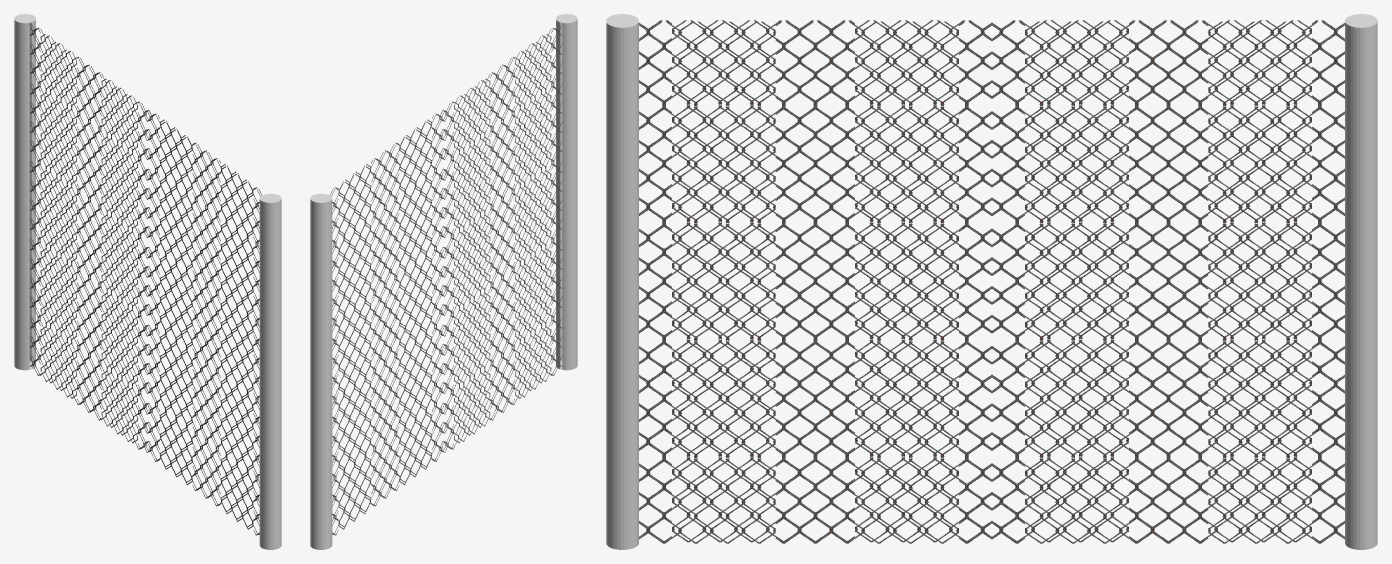
File: fence.fbx
3 renders of one model, left to right at view 1: azimuth 30°, elevation 25°; view 2: azimuth 150°, elevation 25°; view 3: azimuth 270°, elevation 25°, orthographic. The views are drawn at different scales.
Visible parts, largest first — view 1: Cylinder; view 2: Cylinder; view 3: Cylinder.
Boxes of the visible parts, x1,y1,x2,y2 form: Cylinder: (14, 14, 281, 549); Cylinder: (310, 14, 577, 549); Cylinder: (606, 14, 1377, 549).
Size of the model in its own units: 42.13 by 741 by 992.
